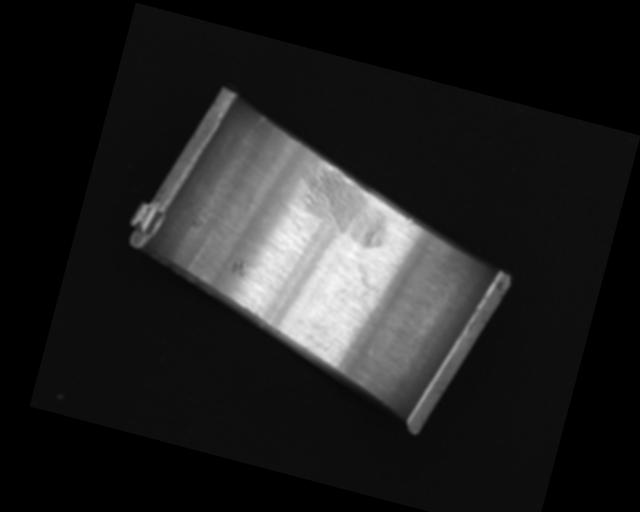blot: (336, 256, 391, 315)
bruise: (229, 257, 249, 279), (404, 216, 417, 227)
nick: (254, 113, 265, 127)
scratch: (285, 159, 399, 253)
